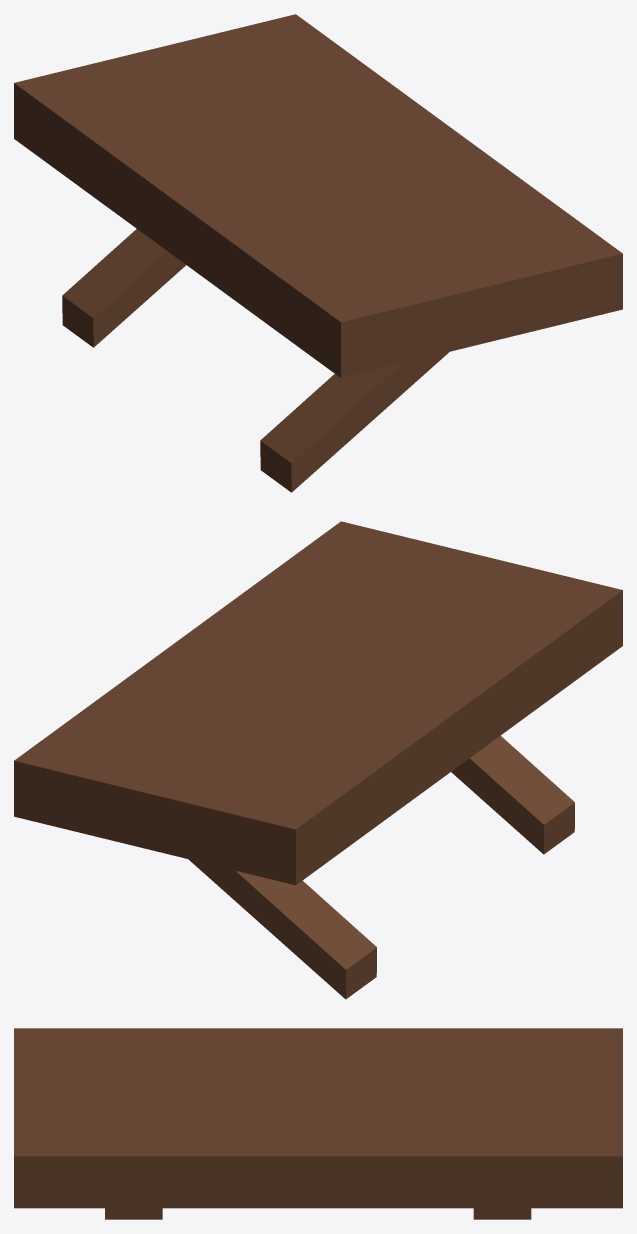
File: shelf.glb
3 renders of one model, top to bottom at view 1: azimuth 30°, elevation 25°; view 2: azimuth 150°, elevation 25°; view 3: azimuth 270°, elevation 25°, orthographic. The views are drawn at different scales.
Visible parts, largest first — view 1: Cube.001; view 2: Cube.001; view 3: Cube.001.
Boxes of the visible parts, bbox=[...] form: Cube.001: bbox=[14, 14, 622, 492]; Cube.001: bbox=[14, 521, 622, 999]; Cube.001: bbox=[14, 1028, 622, 1219].
Bounding box in the file's own units: 0.9984 × 0.6949 × 2.
